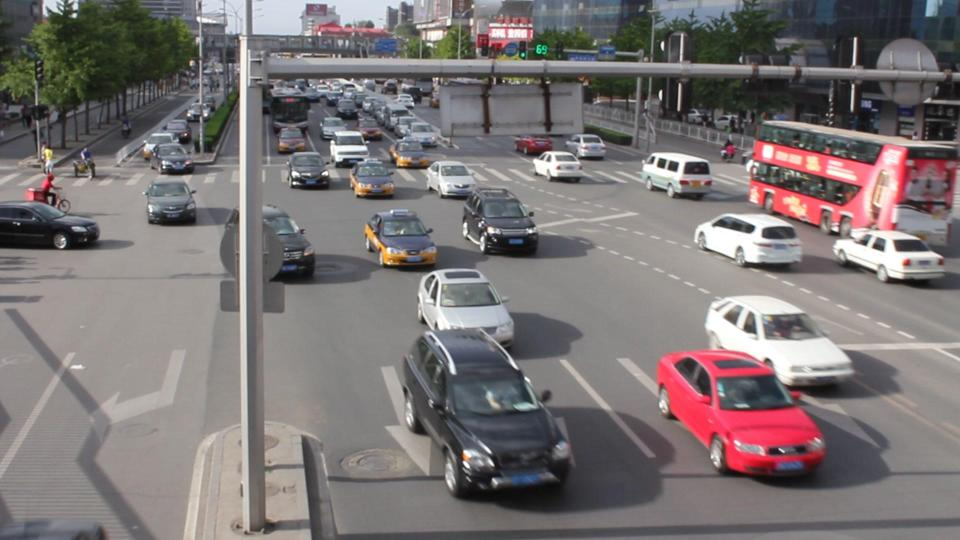Bus: (747, 118, 944, 246)
Car: (402, 325, 571, 497), (656, 346, 824, 474), (704, 292, 854, 386), (416, 265, 516, 348), (224, 201, 316, 276), (831, 227, 941, 280), (693, 211, 800, 264), (461, 187, 538, 253), (364, 207, 436, 266)
